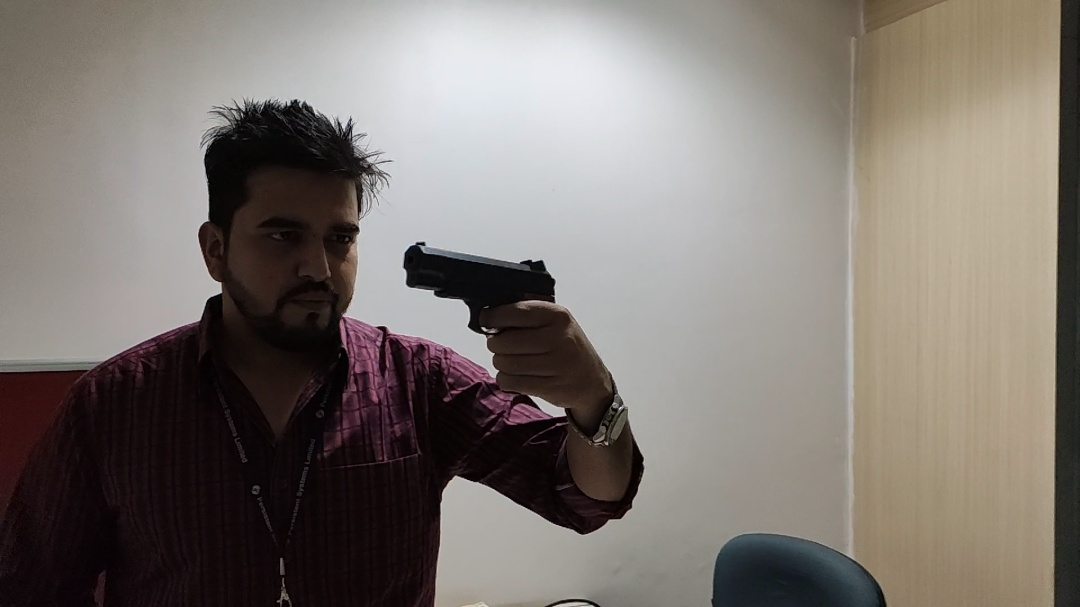gun: (401, 235, 565, 398)
